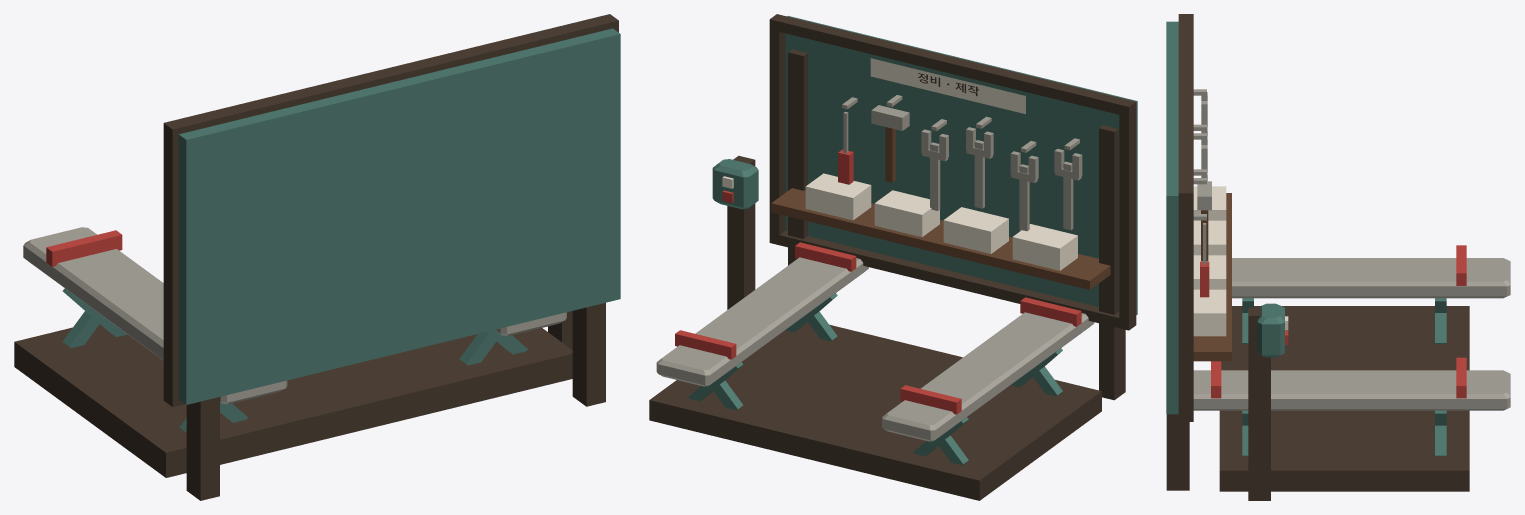
File: S07_Kart_Service_Lift.fbx
The picture shows the model from 3 angles, left to right: view 1: azimuth 30°, elevation 25°; view 2: azimuth 150°, elevation 25°; view 3: azimuth 270°, elevation 25°; orthographic projection. The views are drawn at different scales.
Parts seen in each view (by area): view 1: Structure; view 2: Structure, Lift_Control; view 3: Structure, Lift_Control.
Part boxes in pixels (bbox=[...]): Structure: bbox=[14, 14, 620, 500]; Structure: bbox=[649, 14, 1137, 500]; Lift_Control: bbox=[712, 155, 758, 309]; Structure: bbox=[1166, 14, 1510, 491]; Lift_Control: bbox=[1248, 303, 1288, 500].
Size of the model in its own units: 3.85 by 2.94 by 3.01.
7 materials, 1 textured.
